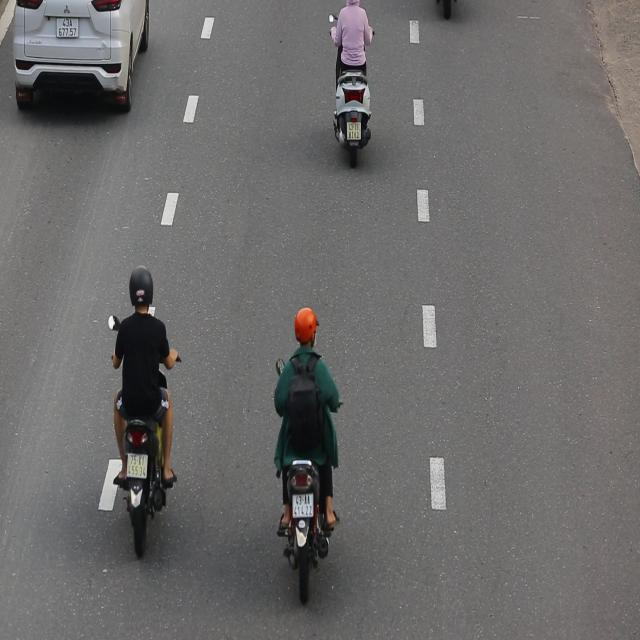motorbike: (107, 258, 184, 560), (269, 306, 344, 612)
